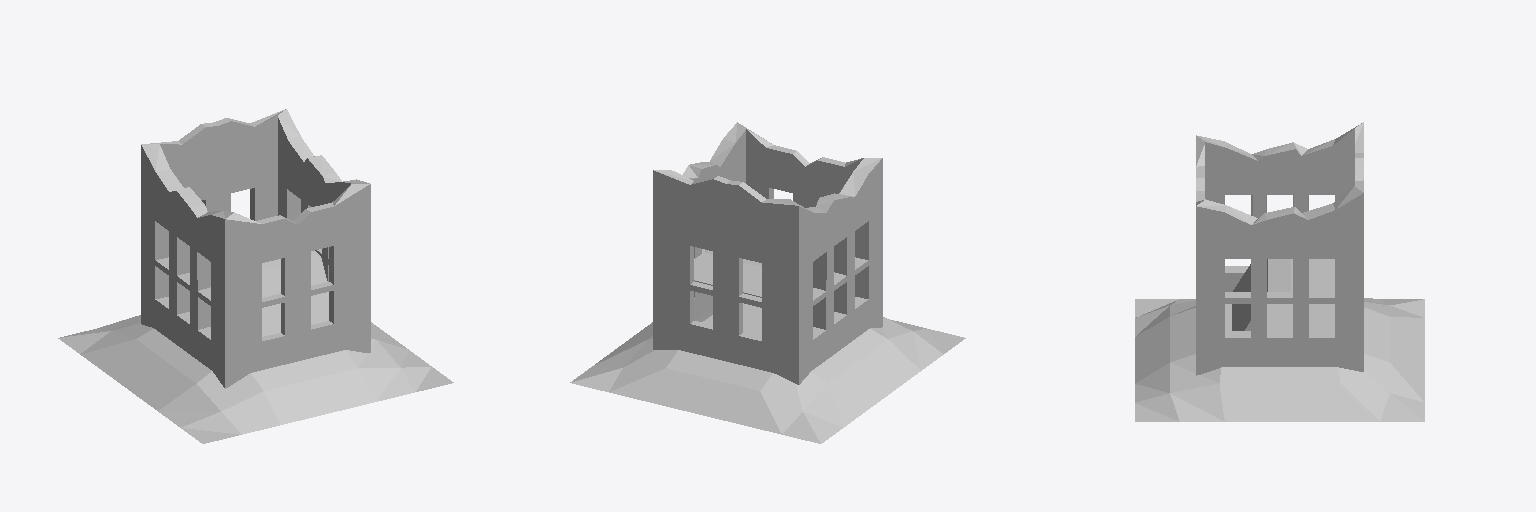
File: Building1.obj
The picture shows the model from 3 angles: view 1: azimuth 30°, elevation 25°; view 2: azimuth 150°, elevation 25°; view 3: azimuth 270°, elevation 25°; orthographic projection.
Visible parts, largest first — view 1: Building1_Plane.007; view 2: Building1_Plane.007; view 3: Building1_Plane.007.
Boxes of the visible parts, box(x1,y1,x2,y2) form: Building1_Plane.007: box(58, 109, 453, 443); Building1_Plane.007: box(570, 122, 965, 443); Building1_Plane.007: box(1135, 122, 1424, 421).
Bounding box in the file's own units: 6 × 4.76 × 6.